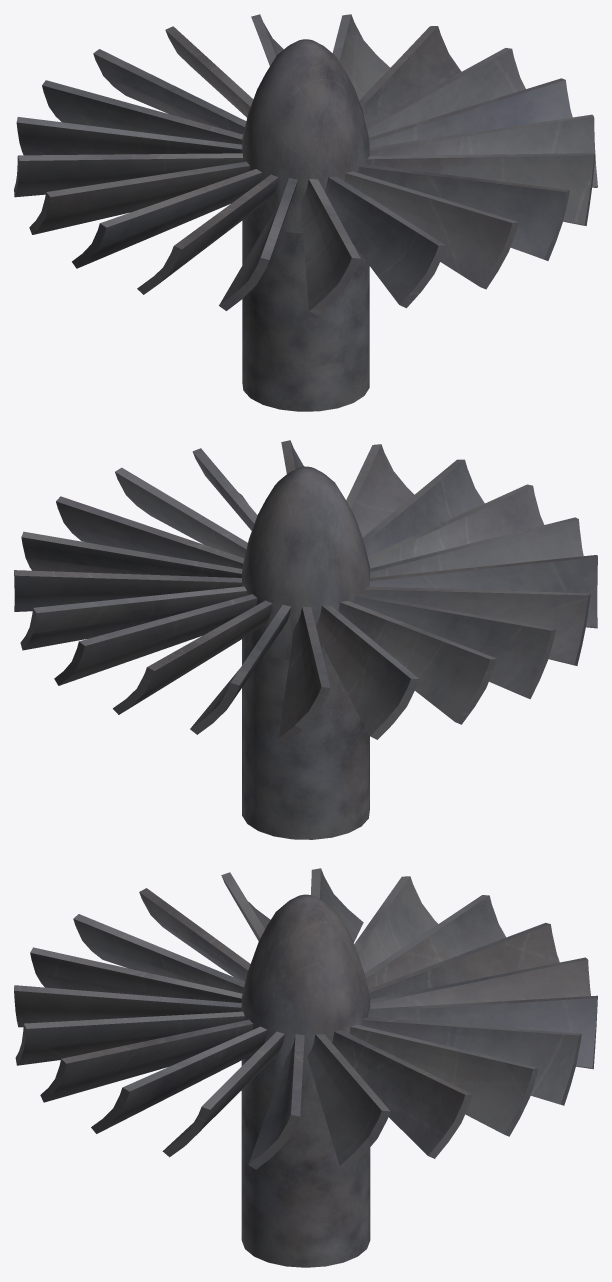
The model's file is HeistTurbine.fbx.
3 renders of one model, top to bottom at view 1: azimuth 30°, elevation 25°; view 2: azimuth 150°, elevation 25°; view 3: azimuth 270°, elevation 25°, orthographic.
Parts seen in each view (by area): view 1: HeistTurbine; view 2: HeistTurbine; view 3: HeistTurbine.
Boxes of the visible parts, x1,y1,x2,y2 form: HeistTurbine: (14,14,597,411); HeistTurbine: (14,440,597,839); HeistTurbine: (14,868,597,1267).
Bounding box in the file's own units: 38.51 × 25 × 38.51.
1 material, 1 textured.
